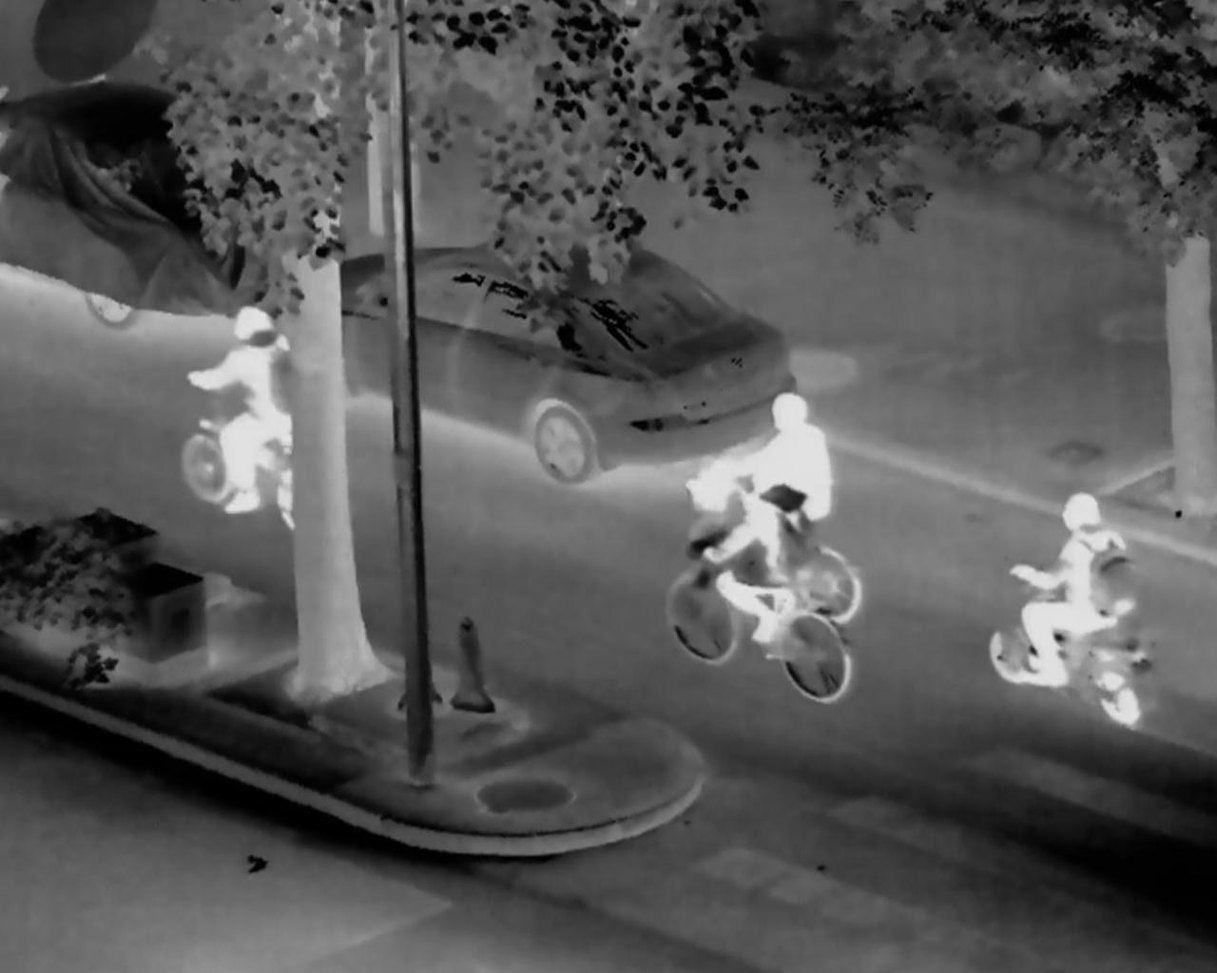person: (187, 306, 299, 515), (1011, 493, 1132, 685), (721, 392, 834, 557), (704, 472, 810, 647)
